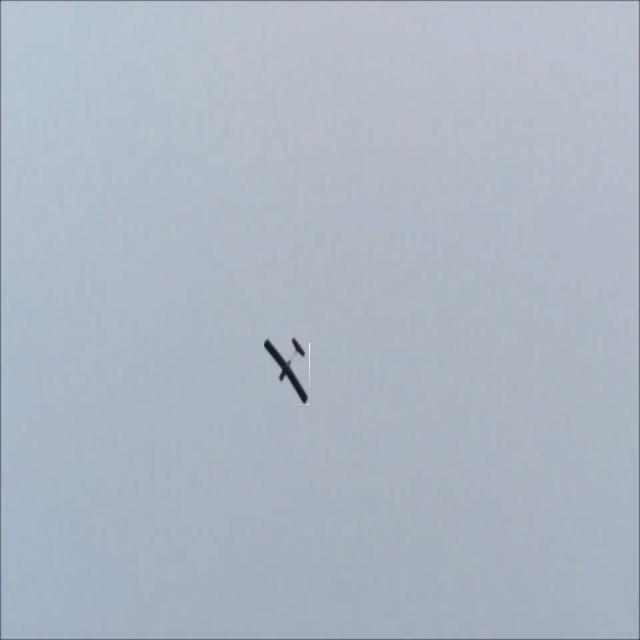iha: (262, 368, 310, 372)
